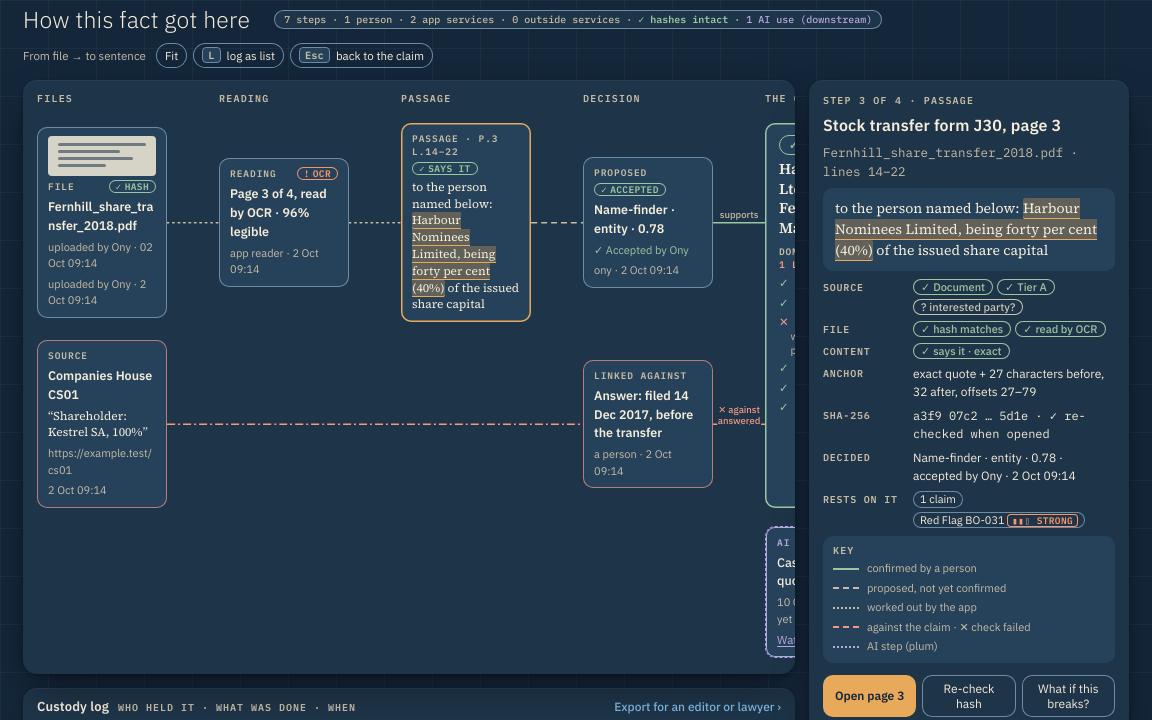
Test: Chain of Custody › re-checks the file, opens the page, and shows the chain as a list with L
Click the button "Re-check hash" at (969,696), box [922,675,1016,717]
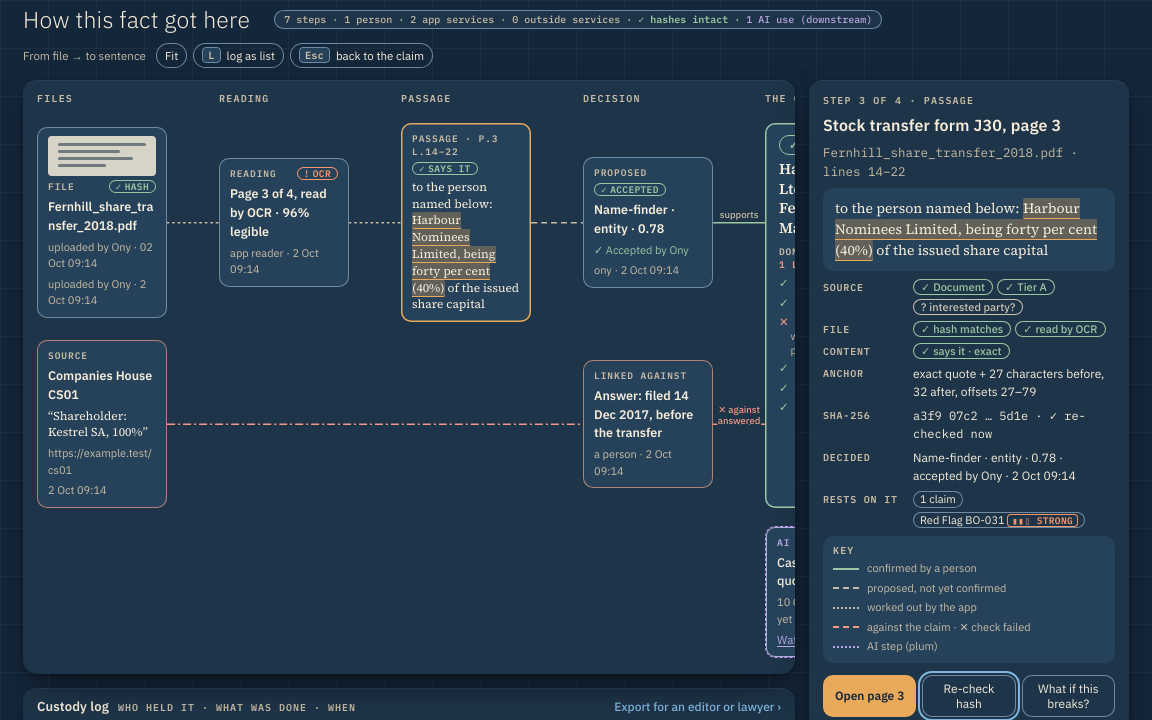
Check: the text "a3f9 07c2 … 5d1e · ✓ re-checked now" is shown, box [913,408,1086,441]
Click the button "Open page 3" at (870,696), box [823,675,916,717]
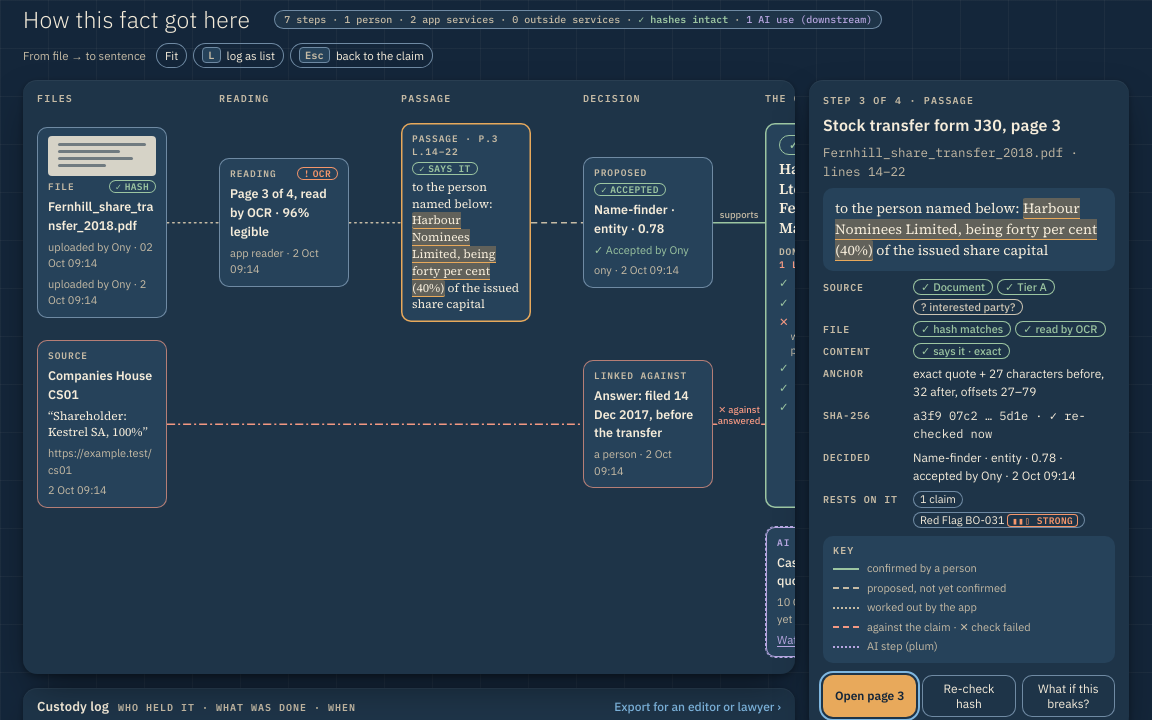
Click the button "What if this breaks?" at (1068,696), box [1022,675,1115,717]
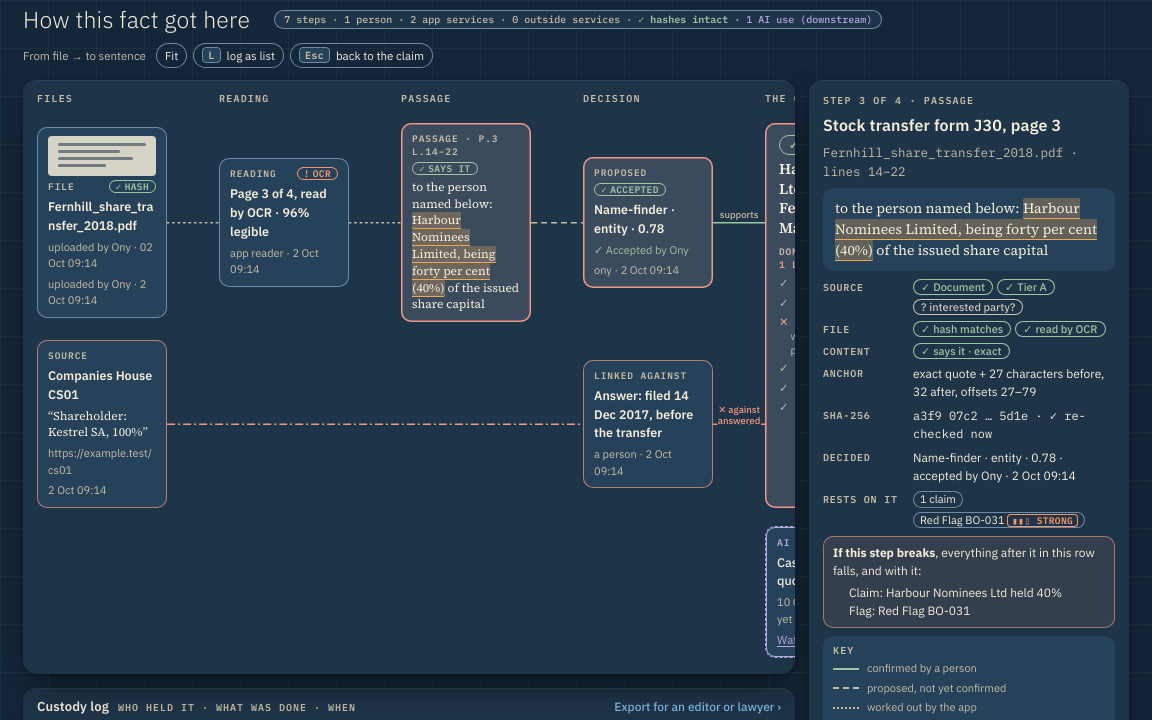
Press l
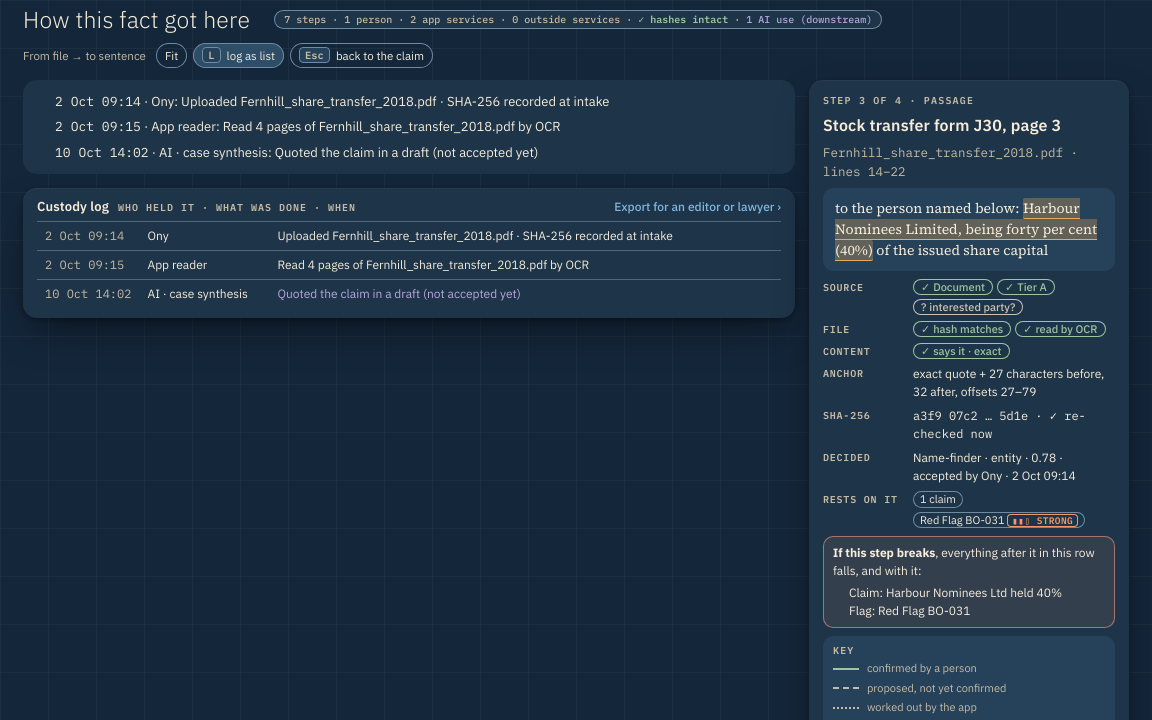
Check: the list named "The chain as a list" shows "Ony: Uploaded Fernhill_share_transfer_2018.pdf", box [23,80,795,174]
Press l
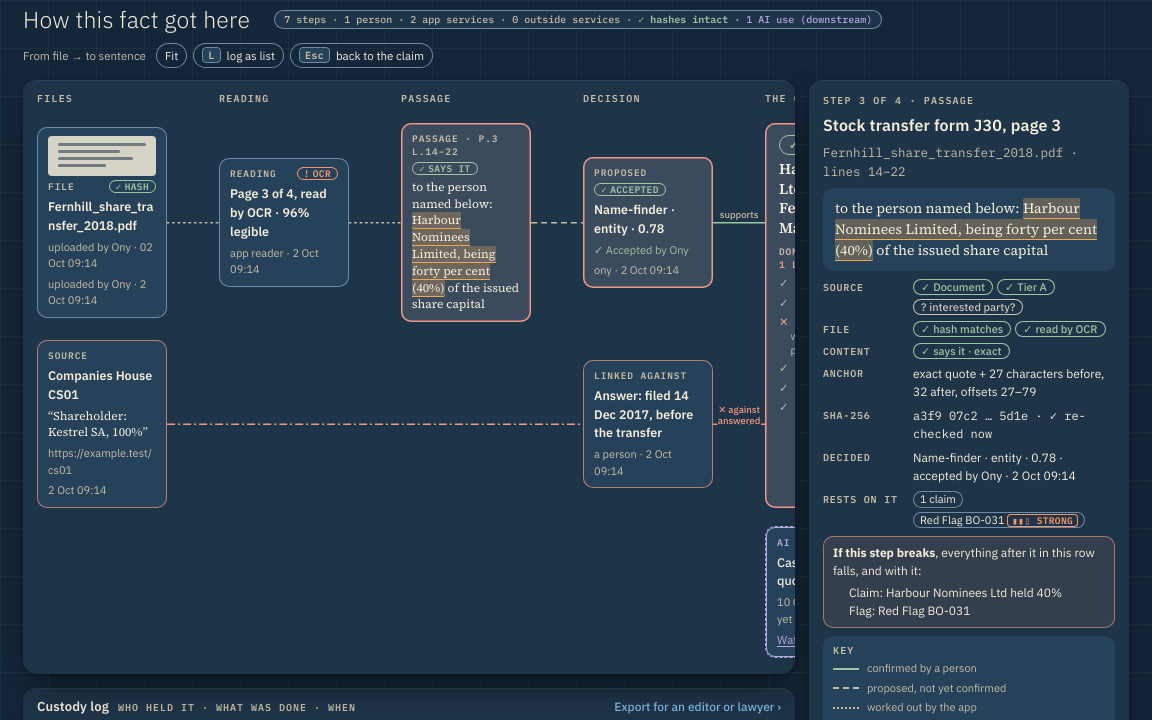
Click the button with aria-label "Source: Companies House CS01" at (102,424), box [37,340,167,508]
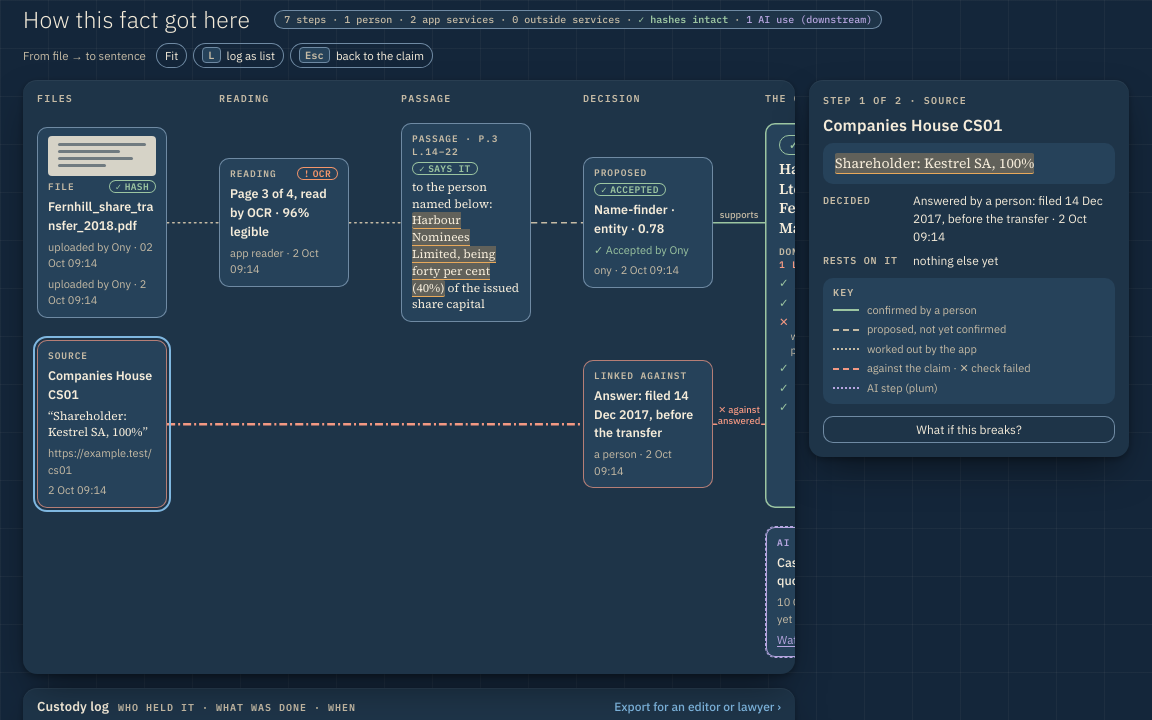
Check: the element named "Step 1 of 2: Source" shows "Answered by a person: filed 14 Dec 2017, before the transfer", box [913,193,1103,244]
